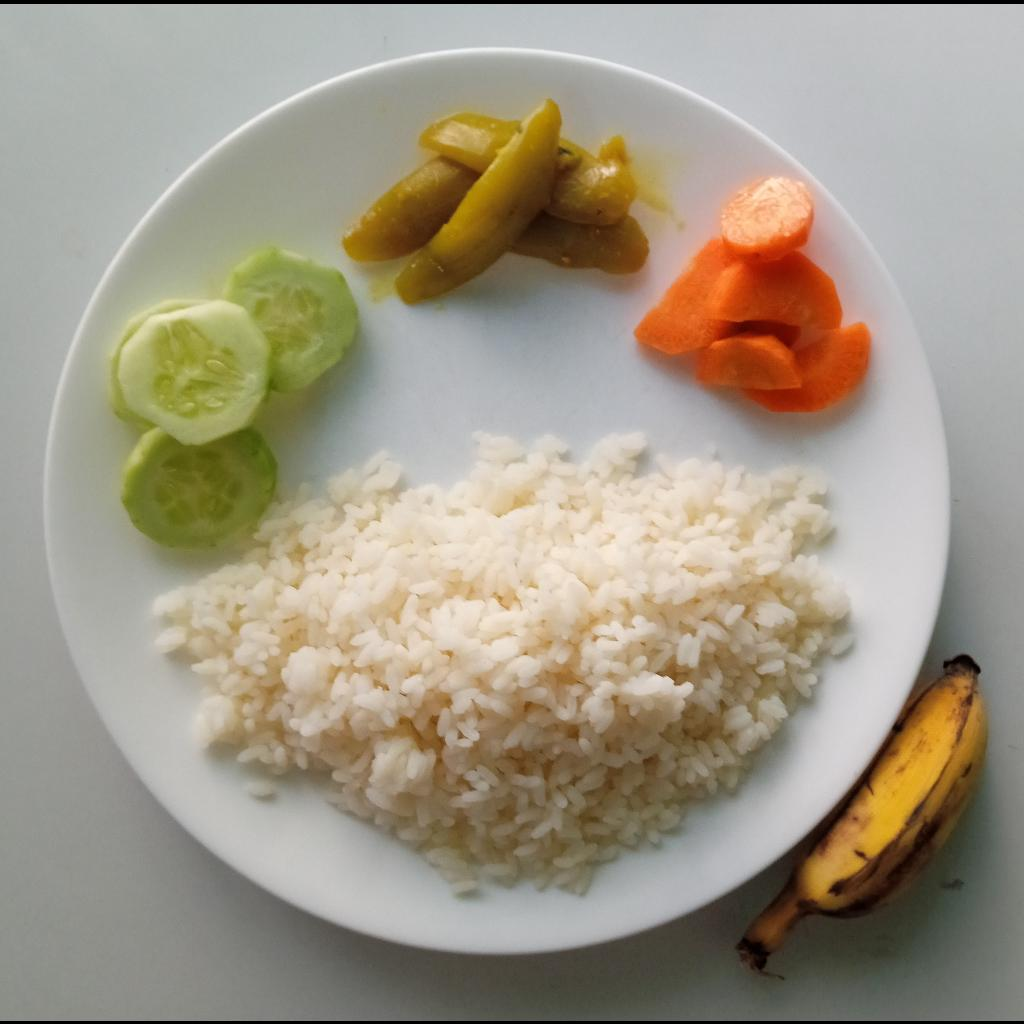banana: (736, 652, 989, 971)
carrot: (632, 176, 871, 412)
cucumber: (111, 246, 360, 551)
potol: (340, 99, 650, 306)
rice: (154, 426, 858, 895)
